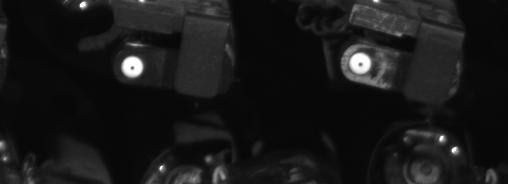fiber: (117, 52, 149, 83), (342, 48, 374, 79)
